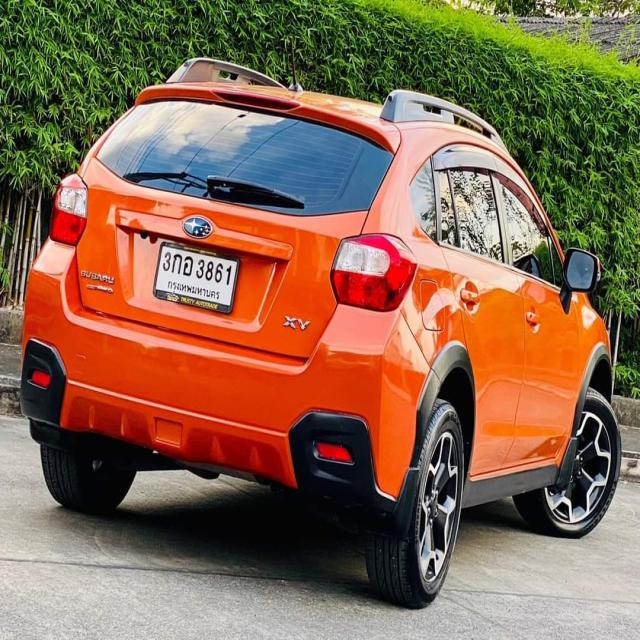license_plate: (153, 229, 240, 318)
